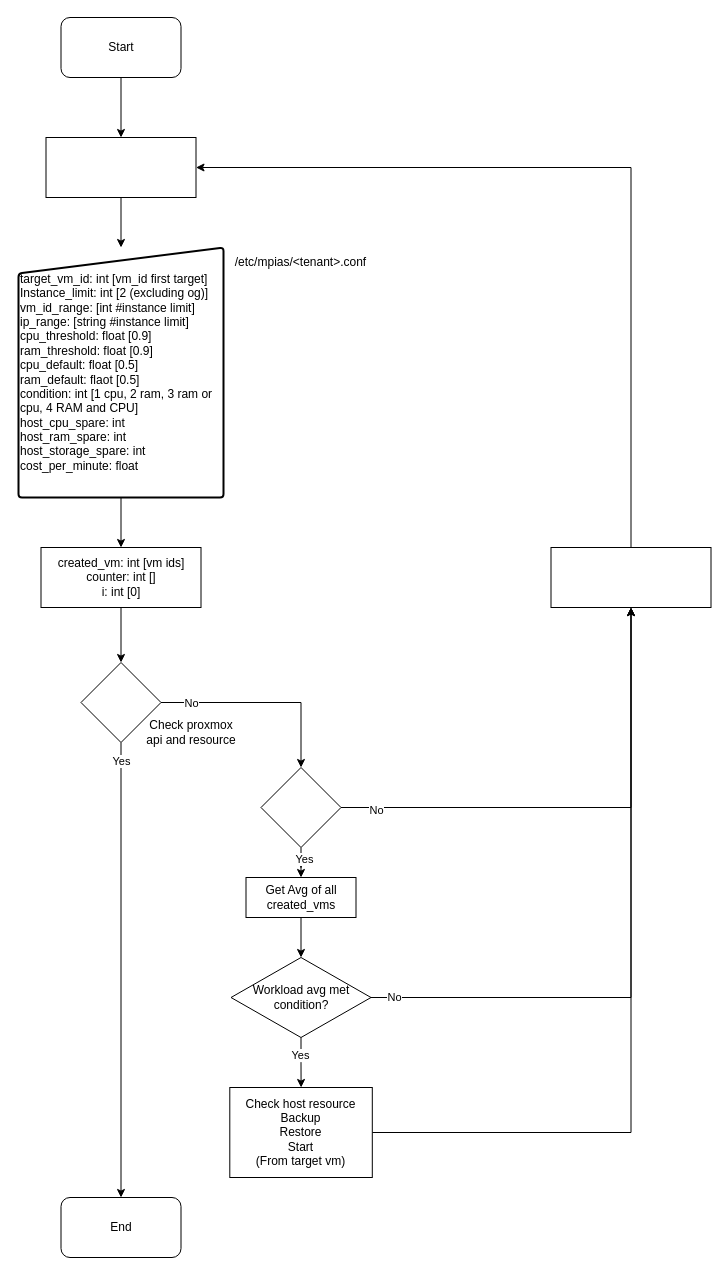
Image size: 728x1275. Some labels were removed from this diagram. Each missing label, with the centre of its shape:
host healthy?: [300,807]
loop all file in /etc/mpias/<tenant>.conf: [120,167]
Sleep 15s: [630,577]
user end service?: [120,702]
